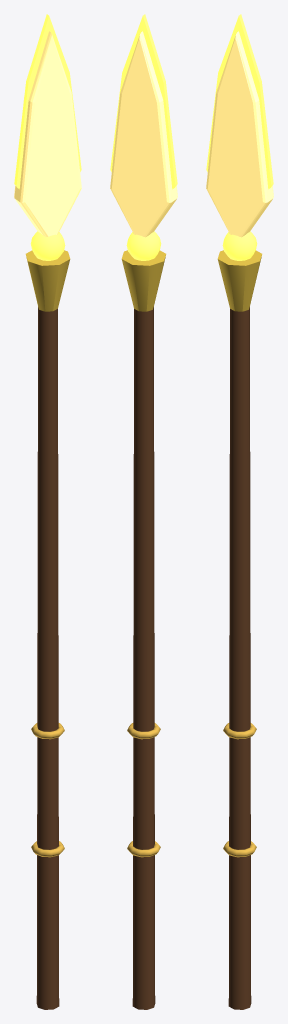
The model's file is spear_f0_abff66f4.glb.
3 renders of one model, left to right at view 1: azimuth 30°, elevation 25°; view 2: azimuth 150°, elevation 25°; view 3: azimuth 330°, elevation 25°, orthographic.
Parts seen in each view (by area): view 1: m0_ow80_, m2_ow80_, m4_ow80_, m1_gm110_, m3_gm160_, m5_ow80_; view 2: m0_ow80_, m2_ow80_, m4_ow80_, m1_gm110_, m3_gm160_, m5_ow80_; view 3: m0_ow80_, m2_ow80_, m4_ow80_, m1_gm110_, m3_gm160_, m5_ow80_.
Part boxes in pixels (x1,y1,x2,y2): m0_ow80_: (36, 307, 59, 1009); m2_ow80_: (14, 31, 81, 236); m4_ow80_: (25, 250, 70, 311); m1_gm110_: (14, 14, 81, 189); m3_gm160_: (30, 231, 65, 260); m5_ow80_: (31, 723, 64, 857); m0_ow80_: (132, 307, 155, 1009); m2_ow80_: (110, 31, 177, 237); m4_ow80_: (121, 250, 166, 311); m1_gm110_: (110, 14, 177, 189); m3_gm160_: (126, 231, 161, 260); m5_ow80_: (127, 723, 160, 857); m0_ow80_: (228, 307, 251, 1009); m2_ow80_: (206, 31, 273, 237); m4_ow80_: (217, 250, 262, 311); m1_gm110_: (206, 14, 273, 189); m3_gm160_: (222, 231, 257, 260); m5_ow80_: (223, 723, 256, 857).
Size of the model in its own units: 0.2596 by 3.78 by 0.16.
